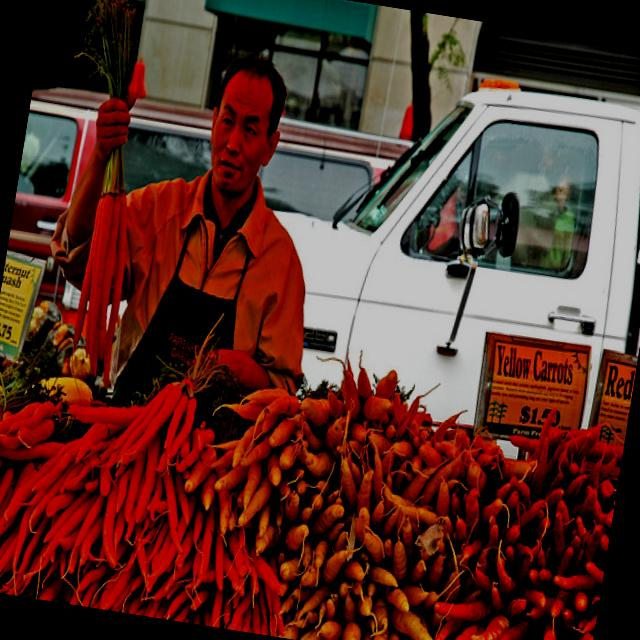Vehicle: (248, 4, 640, 450), (10, 76, 420, 296)
